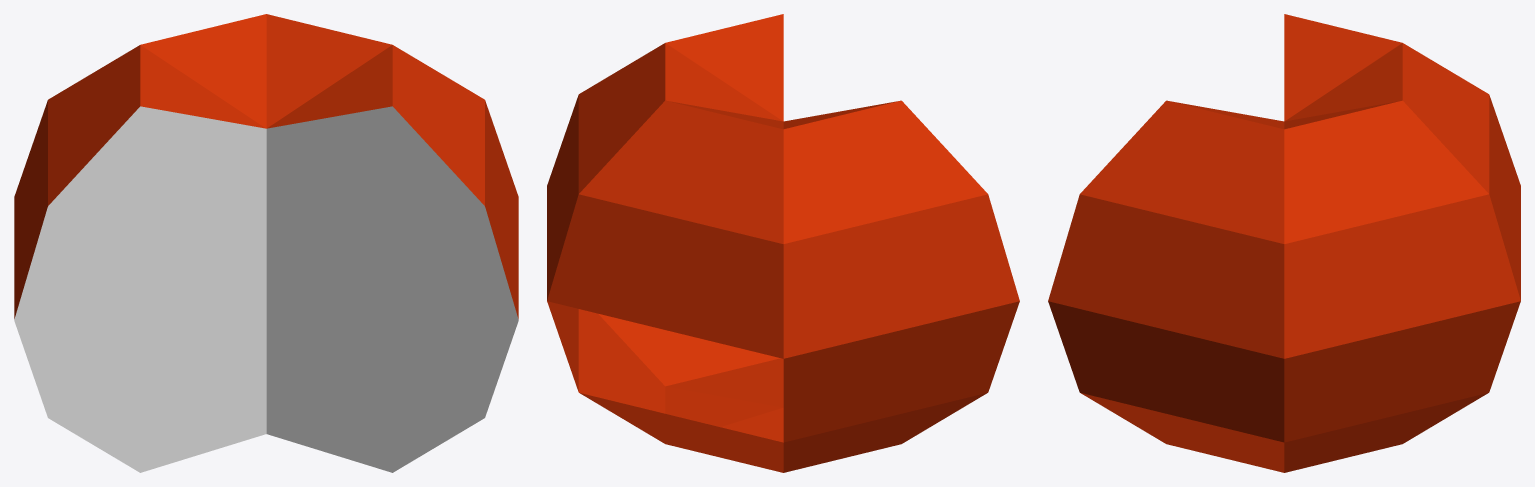
File: food_apple_half.fbx
3 views of the same model, side by side, from view 1: azimuth 30°, elevation 25°; view 2: azimuth 150°, elevation 25°; view 3: azimuth 270°, elevation 25° (orthographic). The views are drawn at different scales.
Parts seen in each view (by area): view 1: polySurface120; view 2: polySurface120; view 3: polySurface120.
Part boxes in pixels (x1,y1,x2,y2): polySurface120: (14,14,518,472); polySurface120: (547,14,1019,472); polySurface120: (1048,14,1520,472).
Bounding box in the file's own units: 53.42 × 37.09 × 46.27.
1 material, 1 textured.
